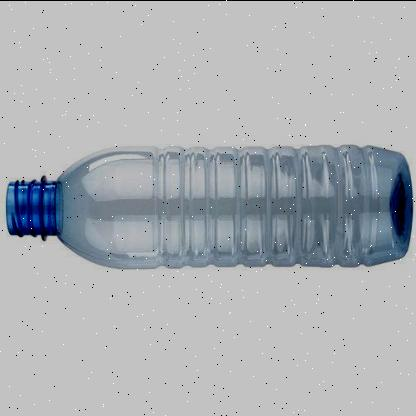Plastic Bottle: (1, 134, 413, 276)
